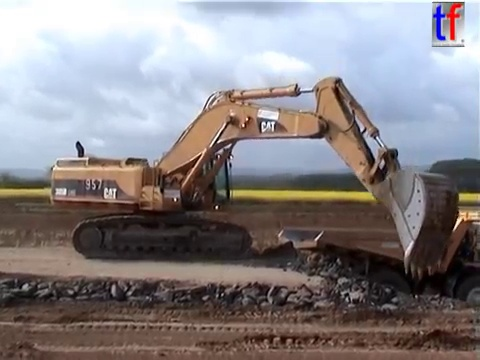excavator: (47, 73, 461, 282)
truck: (274, 210, 480, 333)
